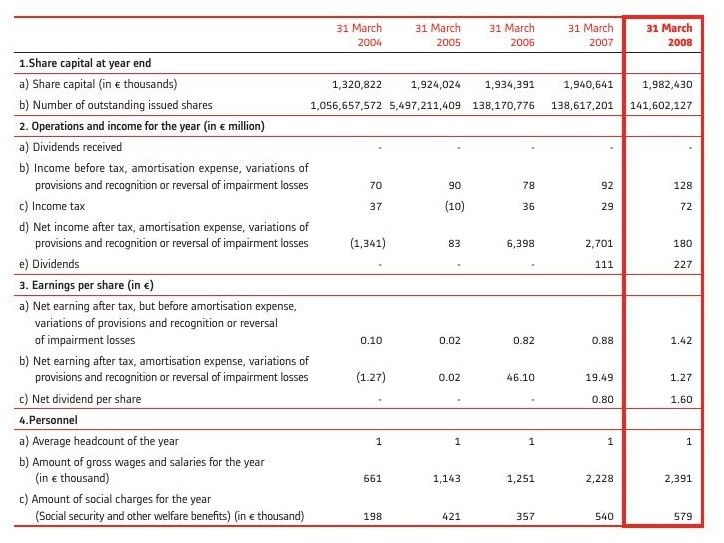table: (0, 0, 724, 543)
